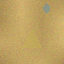person: (43, 3, 50, 12)
structure: (21, 28, 42, 48)
